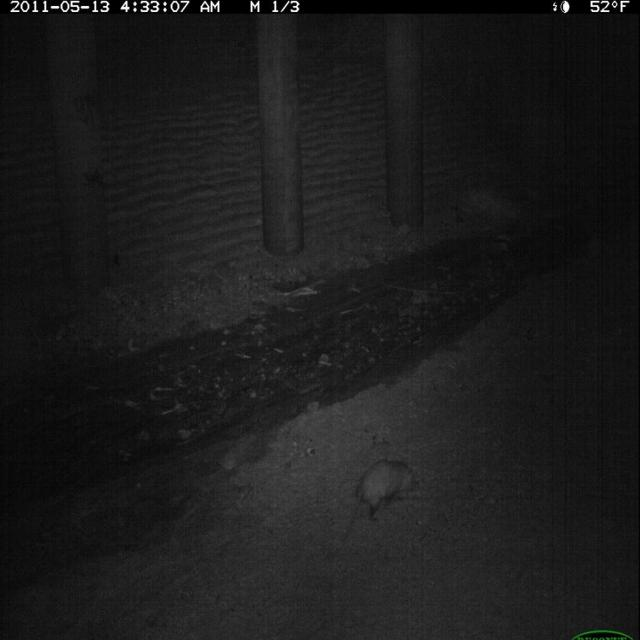opossum: (337, 457, 420, 550)
